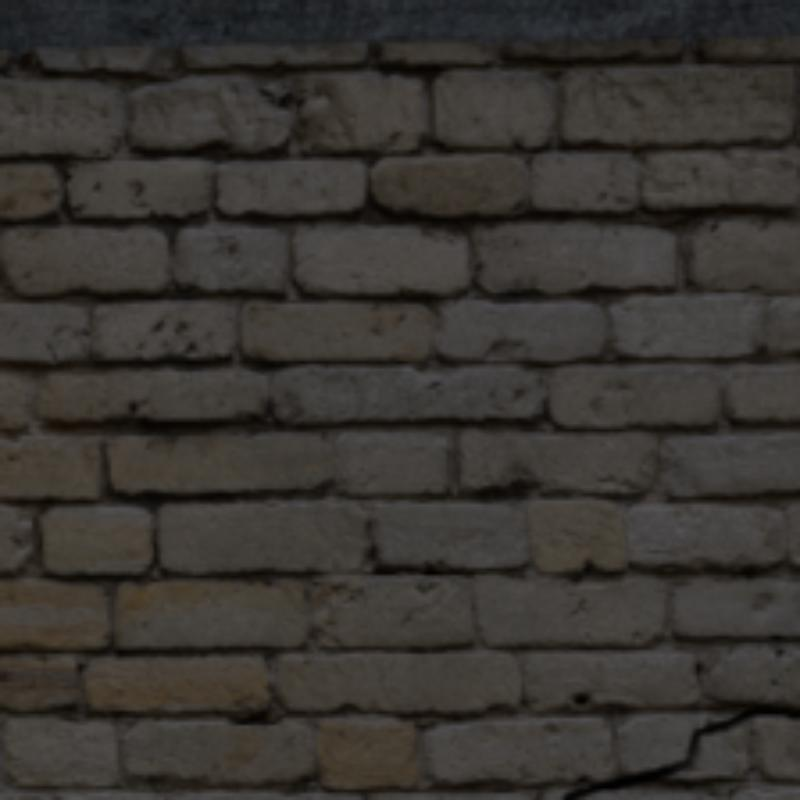crack: (564, 707, 796, 796)
